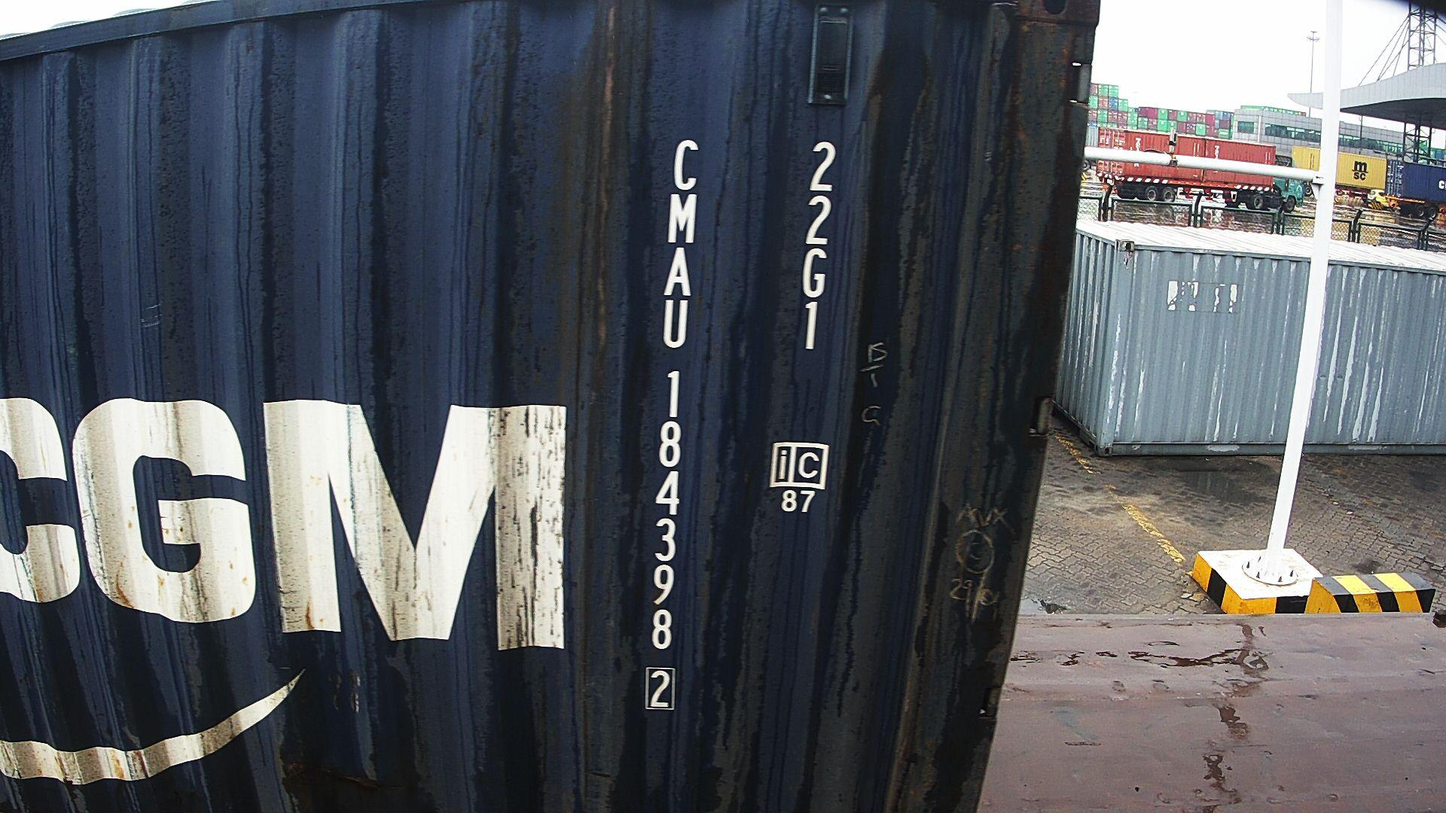container-numbers: (637, 132, 701, 719), (788, 137, 843, 361)
